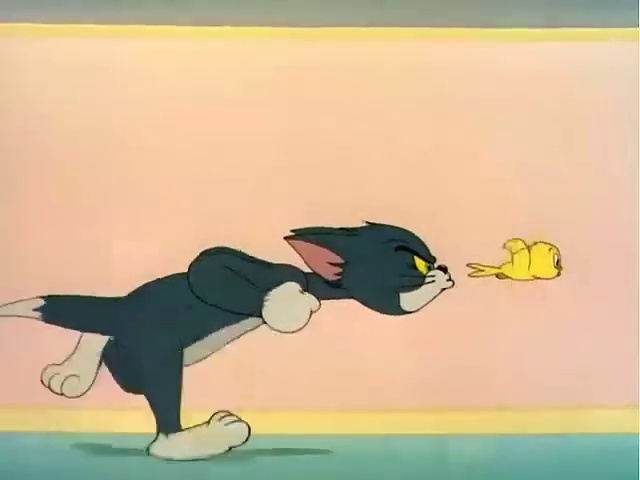tom: (11, 171, 463, 468)
